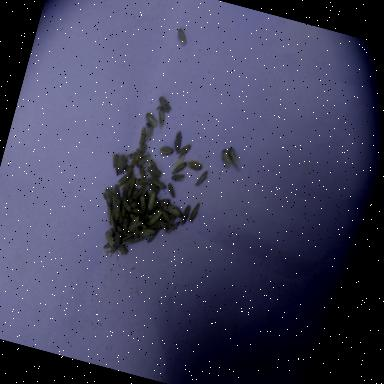pbw: (145, 206, 163, 230), (152, 106, 170, 130), (155, 96, 175, 114), (170, 158, 188, 178), (114, 153, 130, 175), (218, 148, 235, 168), (127, 214, 144, 234), (108, 232, 122, 256), (171, 130, 185, 154), (102, 204, 116, 227), (176, 141, 192, 161), (194, 168, 210, 188), (174, 26, 190, 46), (136, 150, 152, 170), (164, 203, 185, 218), (145, 188, 158, 212), (179, 202, 192, 226), (116, 170, 133, 188), (144, 177, 162, 194), (146, 226, 161, 246), (122, 176, 136, 197), (143, 112, 160, 129), (129, 146, 141, 170), (188, 200, 201, 222), (100, 186, 114, 206), (110, 202, 124, 222), (164, 218, 180, 235), (150, 176, 168, 191), (136, 228, 155, 242), (146, 197, 160, 216), (145, 166, 163, 180), (110, 184, 124, 202), (107, 216, 120, 234), (102, 230, 116, 246), (164, 182, 178, 198), (158, 145, 174, 159), (108, 151, 120, 169), (134, 186, 146, 204), (186, 160, 204, 172), (138, 125, 148, 146), (114, 243, 130, 256), (106, 186, 116, 206), (136, 143, 147, 161), (156, 217, 170, 231), (138, 194, 148, 212), (144, 125, 154, 143), (160, 206, 172, 221), (127, 178, 136, 198), (170, 171, 186, 182), (130, 207, 146, 218), (158, 197, 172, 209), (138, 164, 148, 180), (121, 199, 133, 212), (120, 232, 132, 244), (126, 198, 138, 210), (120, 236, 132, 248), (135, 178, 148, 188), (122, 216, 130, 232), (119, 206, 127, 222), (123, 164, 135, 174), (140, 187, 150, 199), (149, 160, 159, 168), (132, 237, 142, 245), (115, 224, 124, 232)
